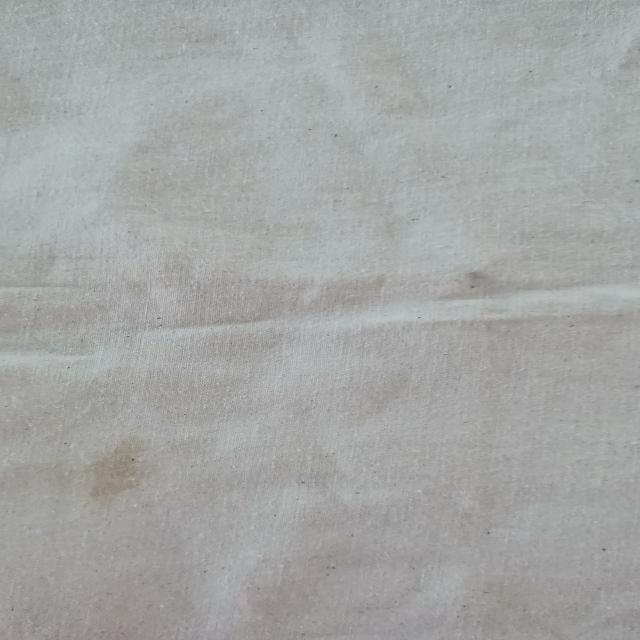taaaches: (77, 428, 171, 518), (450, 260, 522, 310)
